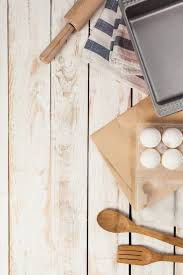Eggs: (163, 149, 183, 172), (142, 149, 162, 171), (142, 128, 162, 148), (163, 128, 183, 148)
